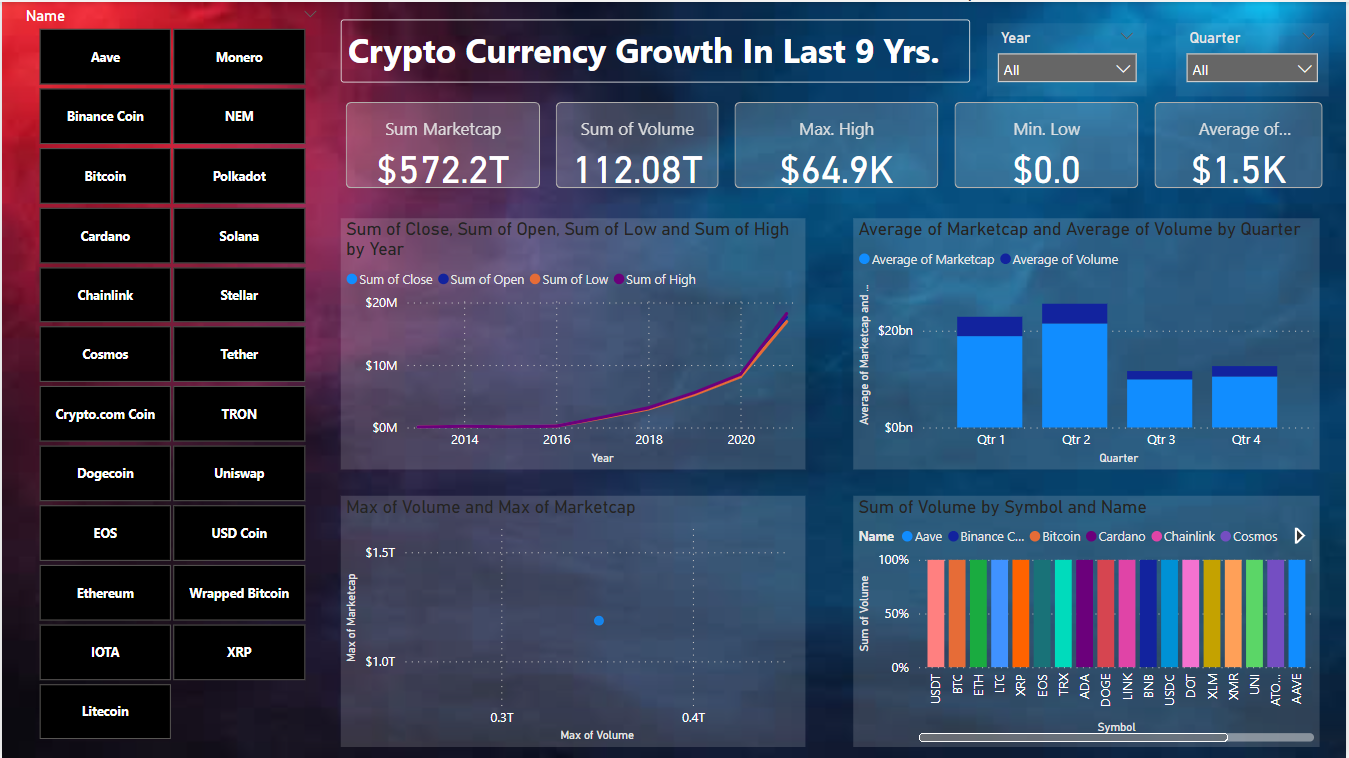

The page's visual inventory and layout, read from the dashboard file:
{"tool":"powerbi","page":{"name":"Page 2","canvas":[1280,720],"ordinal":1},"visuals":[{"type":"textbox","box":[322.2,16.5,599.1,60.3],"z":0},{"type":"slicer","fields":{"Values":["CryptoData.Name"]},"box":[9.6,0,303,708.8],"z":1000},{"type":"cardVisual","fields":{"Data":["CryptoData.Sum Marketcap"]},"box":[322.5,90.4,195.2,92.8],"z":2000},{"type":"slicer","fields":{"Values":["CryptoData.Year"]},"box":[937.8,20.6,152.2,69.9],"z":3000},{"type":"slicer","fields":{"Values":["CryptoData.Date.Variation.Date Hierarchy.Quarter"]},"box":[1117.4,20.6,145.3,69.9],"z":4000},{"type":"cardVisual","fields":{"Data":["CryptoData.Max. High"]},"box":[692.6,90.4,204.7,92.8],"z":5000},{"type":"cardVisual","fields":{"Data":["CryptoData.Min. Low"]},"box":[902.1,90.4,185.7,92.8],"z":6000},{"type":"cardVisual","fields":{"Data":["Avg(CryptoData.Average)"]},"box":[1092.5,90.4,170.2,92.8],"z":7000},{"type":"cardVisual","fields":{"Data":["Sum(CryptoData.Volume)"]},"box":[522.4,90.4,165.4,92.8],"z":8000},{"type":"lineChart","fields":{"Category":["CryptoData.Date.Variation.Date Hierarchy.Year","CryptoData.Date.Variation.Date Hierarchy.Quarter","CryptoData.Date.Variation.Date Hierarchy.Month","CryptoData.Date.Variation.Date Hierarchy.Day"],"Y":["Sum(CryptoData.Close)","Sum(CryptoData.Open)","Sum(CryptoData.Low)","Sum(CryptoData.High)"]},"box":[322.5,205.9,442.7,239.2],"z":8001},{"type":"columnChart","fields":{"Category":["CryptoData.Date.Variation.Date Hierarchy.Quarter","CryptoData.Date.Variation.Date Hierarchy.Month","CryptoData.Date.Variation.Date Hierarchy.Day"],"Y":["Avg(CryptoData.Marketcap)","Avg(CryptoData.Volume)"]},"box":[810.4,205.9,443.9,239.2],"z":8002},{"type":"scatterChart","fields":{"X":["Max(CryptoData.Volume)"],"Y":["Max(CryptoData.Marketcap)"]},"box":[322.5,470.1,442.7,239.2],"z":8003},{"type":"hundredPercentStackedColumnChart","fields":{"Y":["Sum(CryptoData.Volume)"],"Category":["CryptoData.Symbol"],"Series":["CryptoData.Name"]},"box":[810.4,470.1,443.9,239.2],"z":8004}]}

Visuals, with their boxes in screenshot pixels (x1, y1, x2, y2), scaled from the page's 1280x720 canvas onto the 1349x758 screenshot:
textbox: l=340, t=17, r=971, b=81
slicer - CryptoData.Name: l=10, t=0, r=329, b=746
cardVisual - CryptoData.Sum Marketcap: l=340, t=95, r=546, b=193
slicer - CryptoData.Year: l=988, t=22, r=1149, b=95
slicer - CryptoData.Date.Variation.Date Hierarchy.Quarter: l=1178, t=22, r=1331, b=95
cardVisual - CryptoData.Max. High: l=730, t=95, r=946, b=193
cardVisual - CryptoData.Min. Low: l=951, t=95, r=1146, b=193
cardVisual - Avg(CryptoData.Average): l=1151, t=95, r=1331, b=193
cardVisual - Sum(CryptoData.Volume): l=551, t=95, r=725, b=193
lineChart - CryptoData.Date.Variation.Date Hierarchy.Year x CryptoData.Date.Variation.Date Hierarchy.Quarter: l=340, t=217, r=806, b=469
columnChart - CryptoData.Date.Variation.Date Hierarchy.Quarter x CryptoData.Date.Variation.Date Hierarchy.Month: l=854, t=217, r=1322, b=469
scatterChart - Max(CryptoData.Volume) x Max(CryptoData.Marketcap): l=340, t=495, r=806, b=747
hundredPercentStackedColumnChart - Sum(CryptoData.Volume) x CryptoData.Symbol: l=854, t=495, r=1322, b=747
